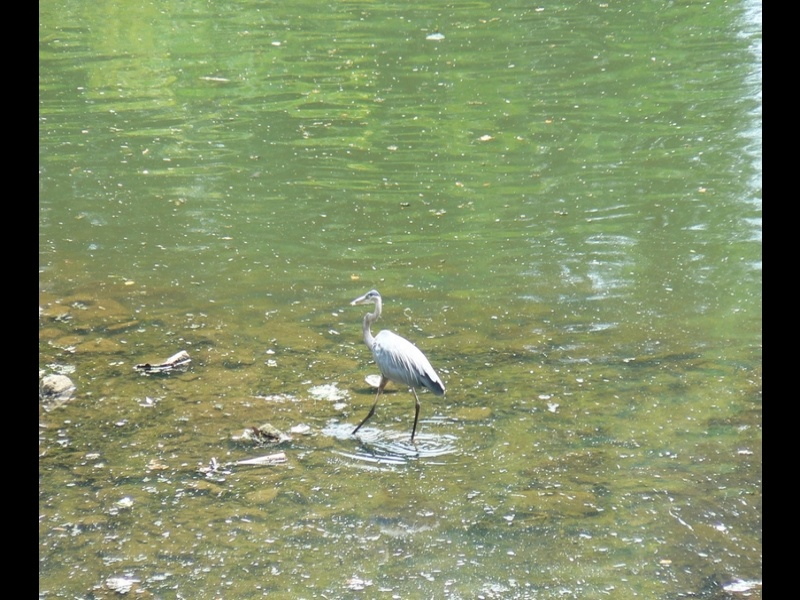heron: (351, 289, 447, 441)
